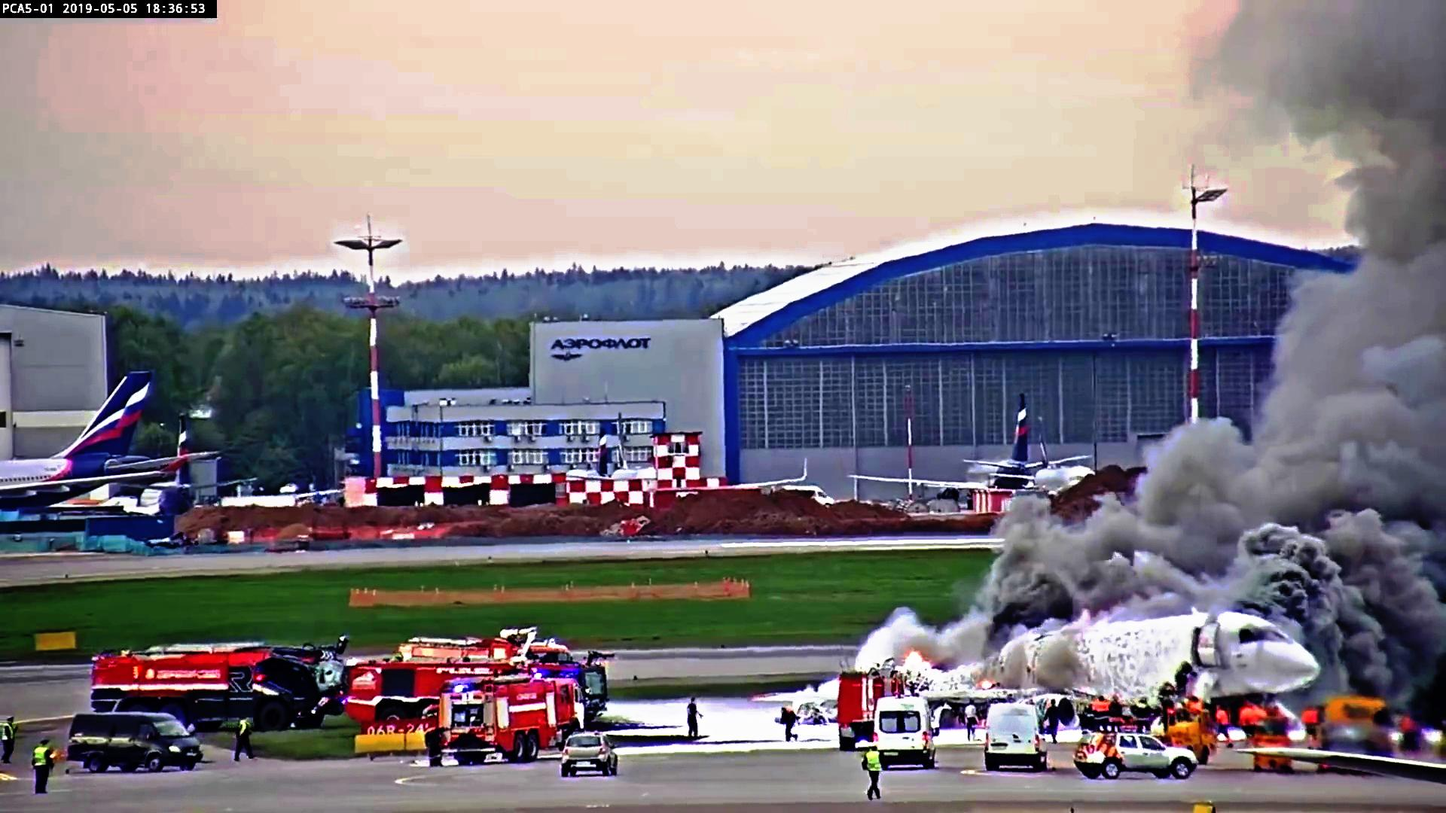smoke: (1248, 415, 1441, 610), (1333, 217, 1446, 503), (1027, 497, 1230, 635)
